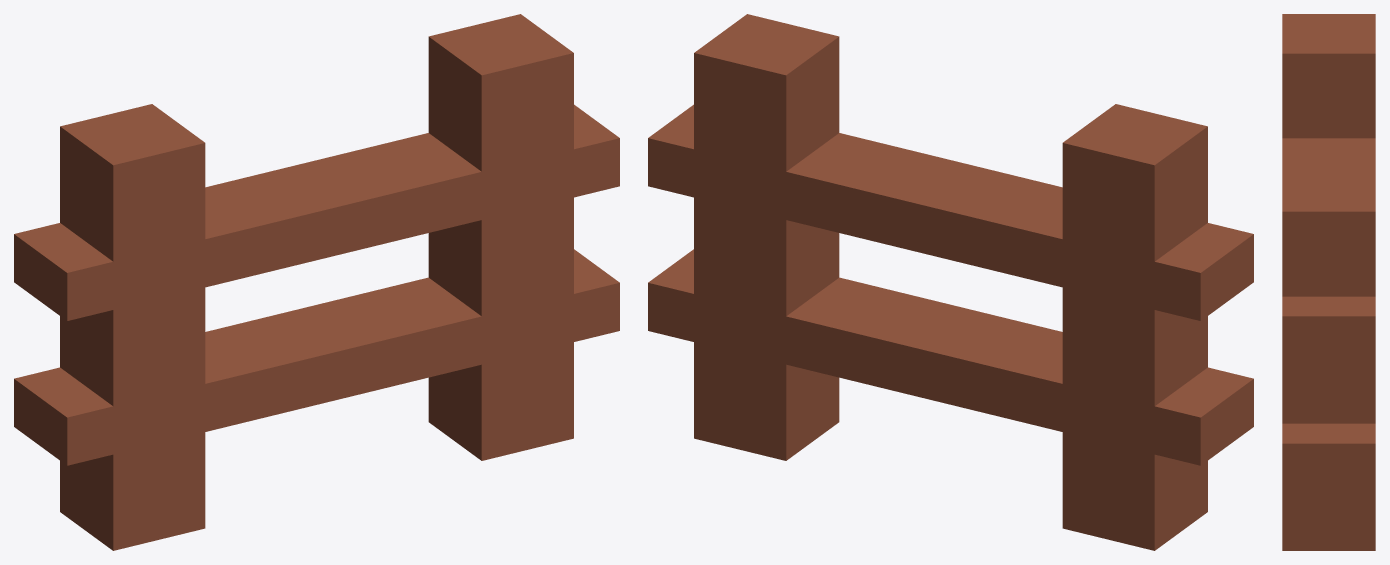
File: fence.obj
3 renders of one model, left to right at view 1: azimuth 30°, elevation 25°; view 2: azimuth 150°, elevation 25°; view 3: azimuth 270°, elevation 25°, orthographic. The views are drawn at different scales.
Size of the model in its own units: 1.2 by 0.8 by 0.2.
Materials: 1 (1 with a texture image).
